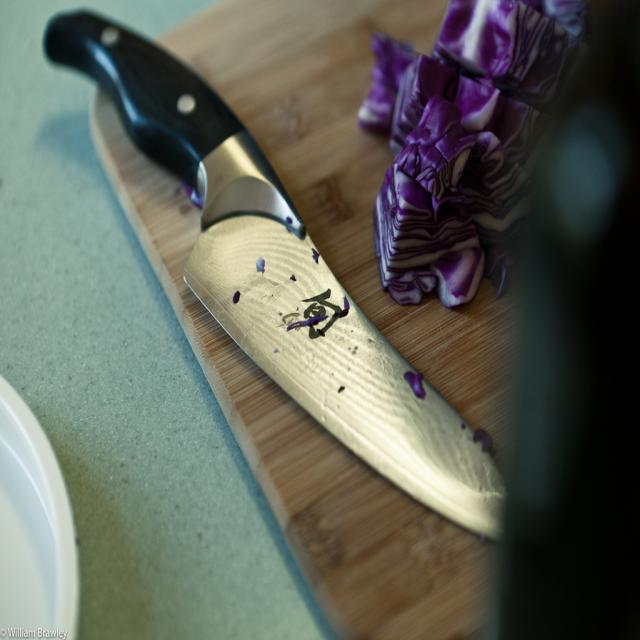Knife: (44, 11, 504, 538)
